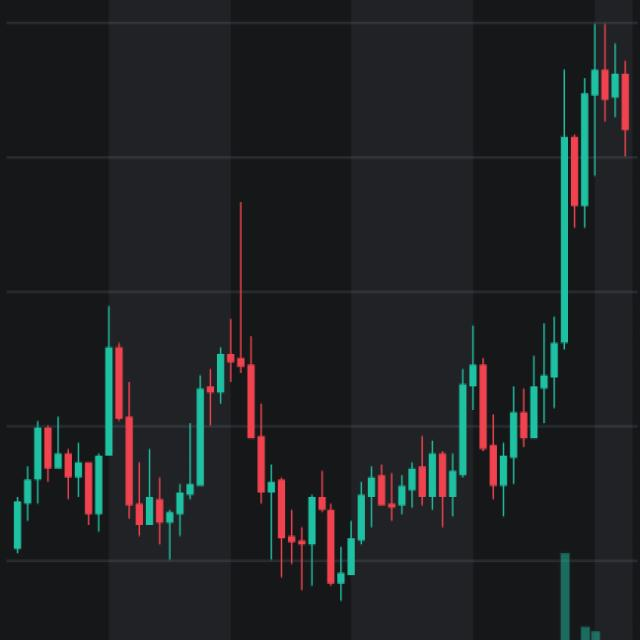Resistance-Emerging: (9, 317, 493, 577)
Resistance-breakout: (348, 11, 631, 571)
